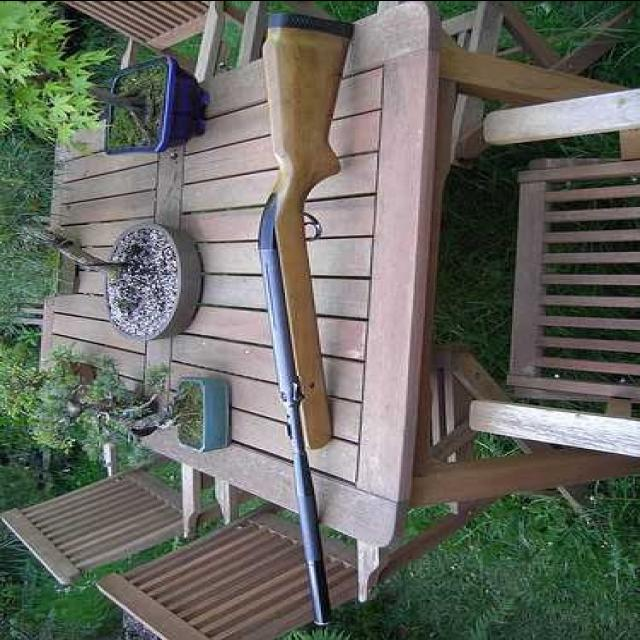heavyweapon: (230, 1, 375, 635)
